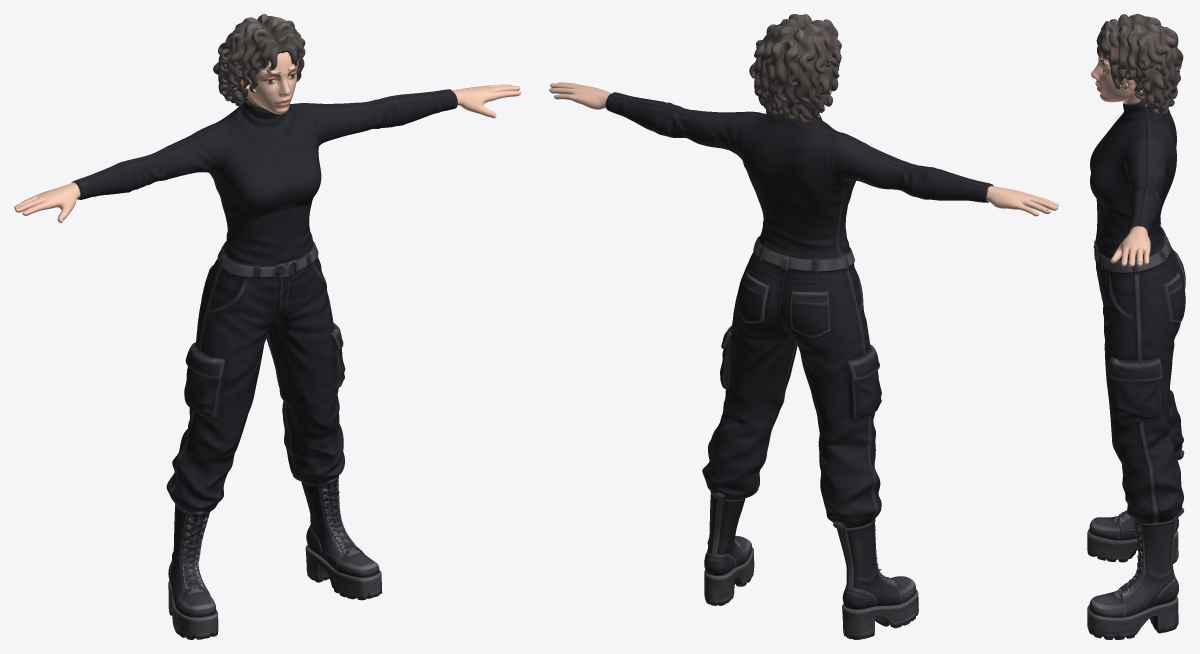
Rendered from MC_Original.fbx.
The picture shows the model from 3 angles, left to right: view 1: azimuth 30°, elevation 25°; view 2: azimuth 150°, elevation 25°; view 3: azimuth 270°, elevation 25°; orthographic projection. The views are drawn at different scales.
Parts seen in each view (by area): view 1: Mesh_0; view 2: Mesh_0; view 3: Mesh_0.
Boxes of the visible parts, x1,y1,x2,y2 form: Mesh_0: (14,14,520,639); Mesh_0: (549,14,1058,639); Mesh_0: (1087,14,1185,639).
Bounding box in the file's own units: 172 × 190 × 29.61.
Materials: 1 (1 with a texture image).
